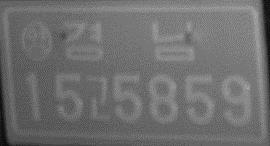1: (23, 70, 45, 126)
5: (183, 73, 217, 125), (52, 70, 85, 122), (111, 72, 144, 124)
8: (147, 73, 181, 125)
9: (221, 74, 253, 126)
경남_D: (63, 16, 199, 65)
고: (82, 73, 111, 123)
영: (20, 20, 54, 61)
